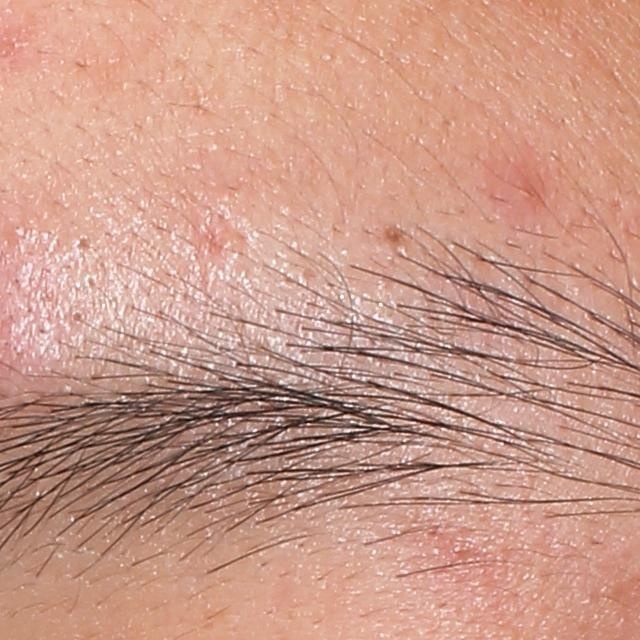comedo: (69, 305, 88, 328)
nevus: (380, 223, 405, 249)
